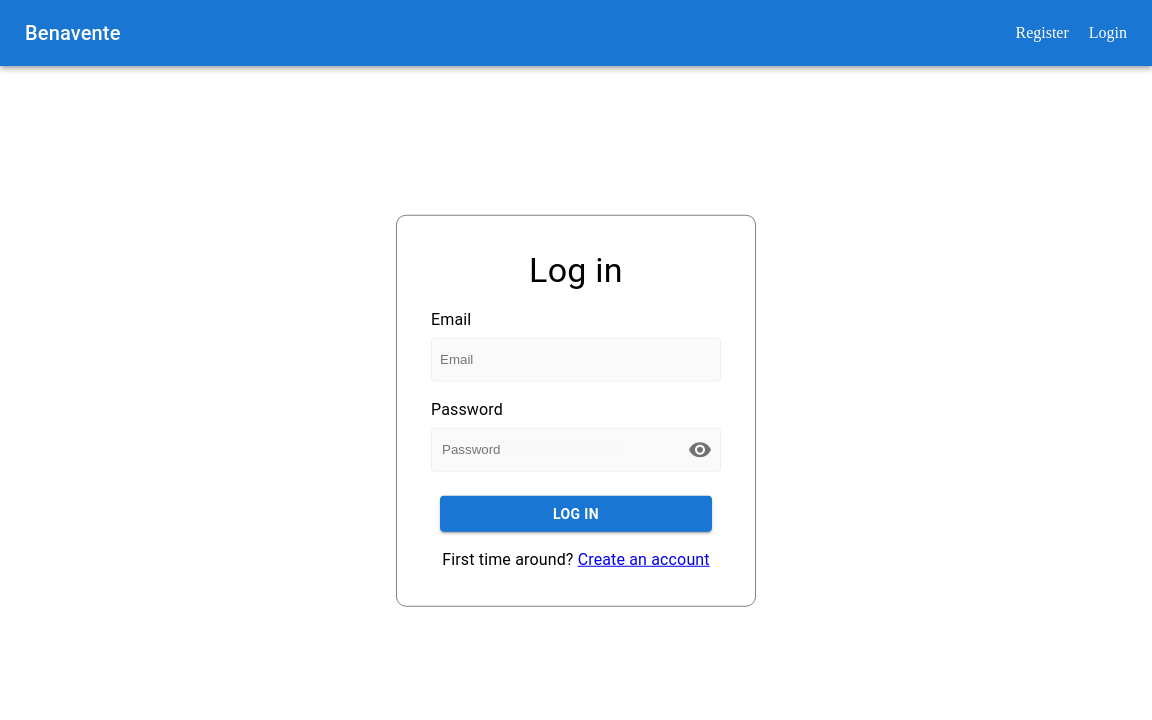
Test: Wrong credenctials
Type "email@email.com" into the field with placeholder "Email" at (576, 360), box [431,338,721,382]
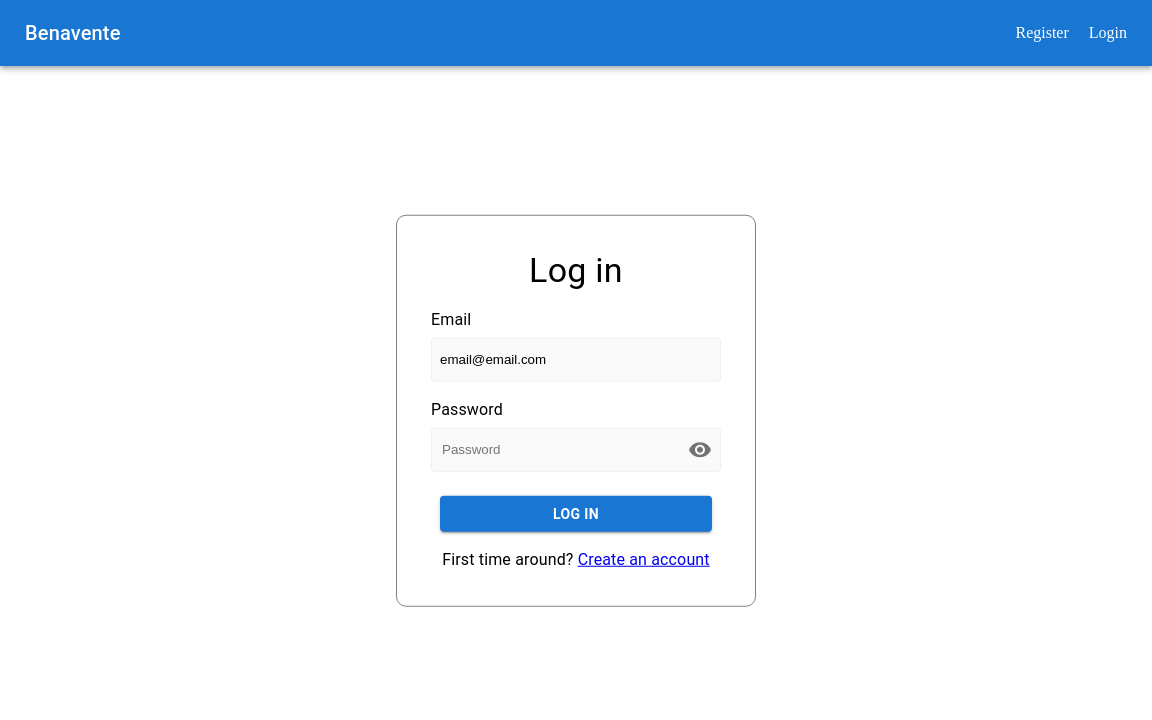
Type "Password123!" into the password field with placeholder "Password" at (530, 450), box [440,441,621,458]
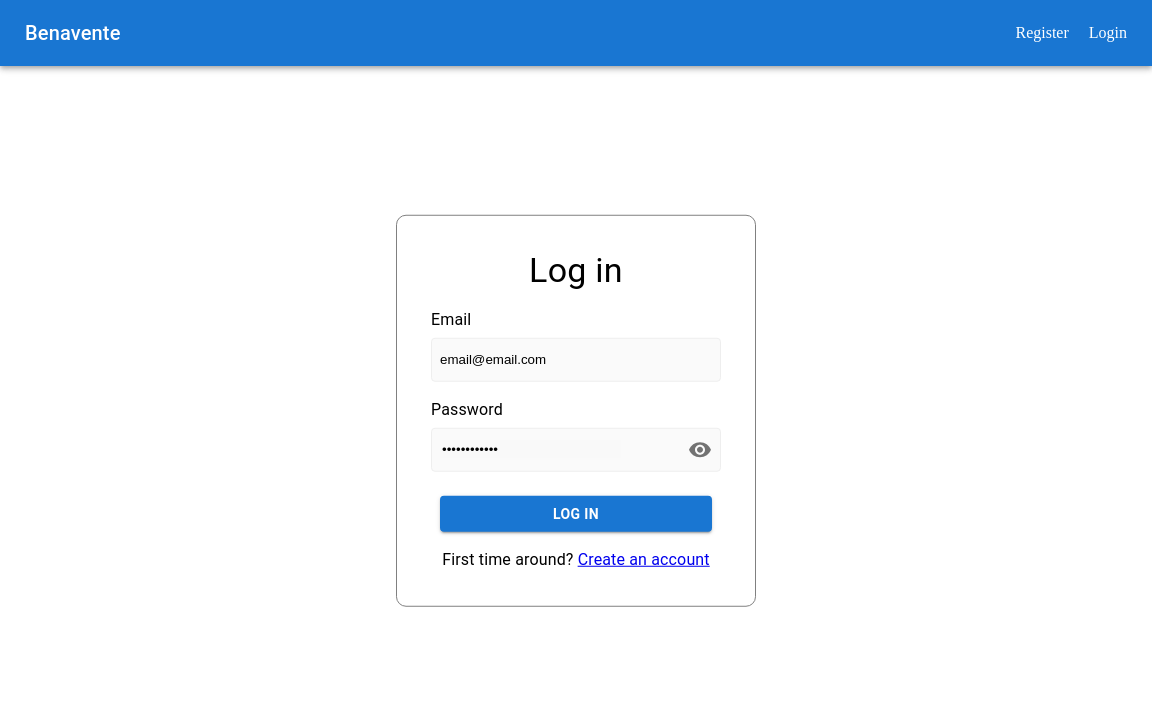
Click the button with test id "send-btn" at (576, 514), box [440,496,712,532]
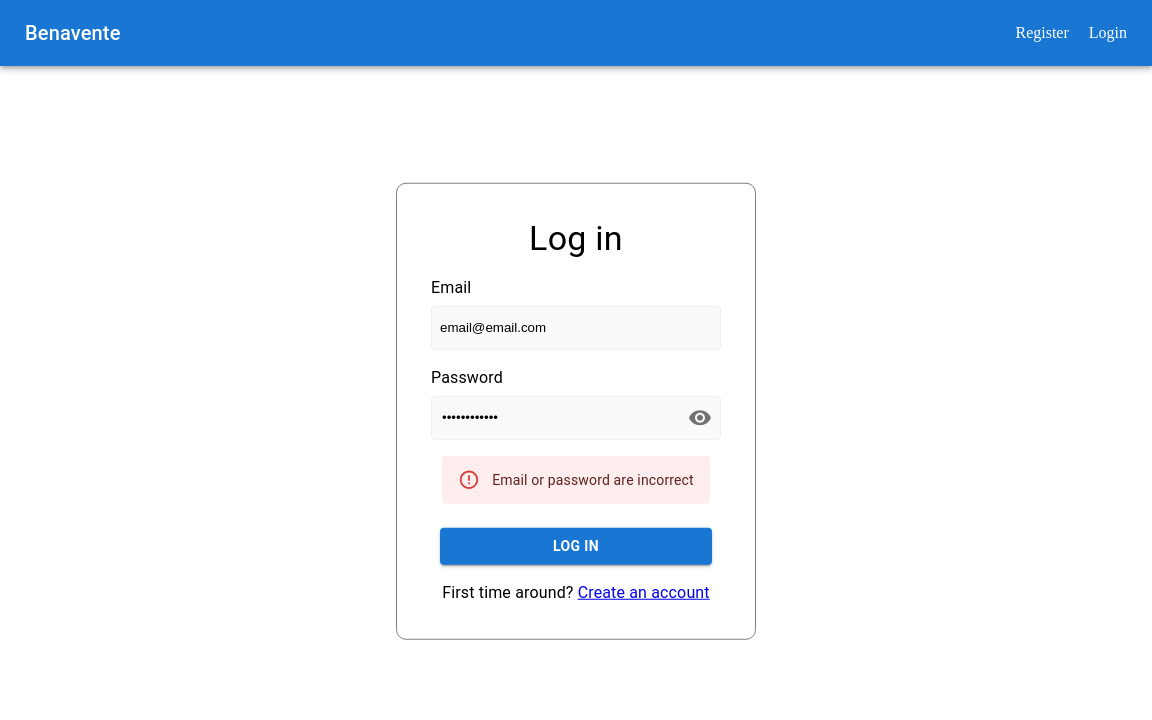
Result: the text "Email or password are incorrect" is shown at [492,472,694,488]
